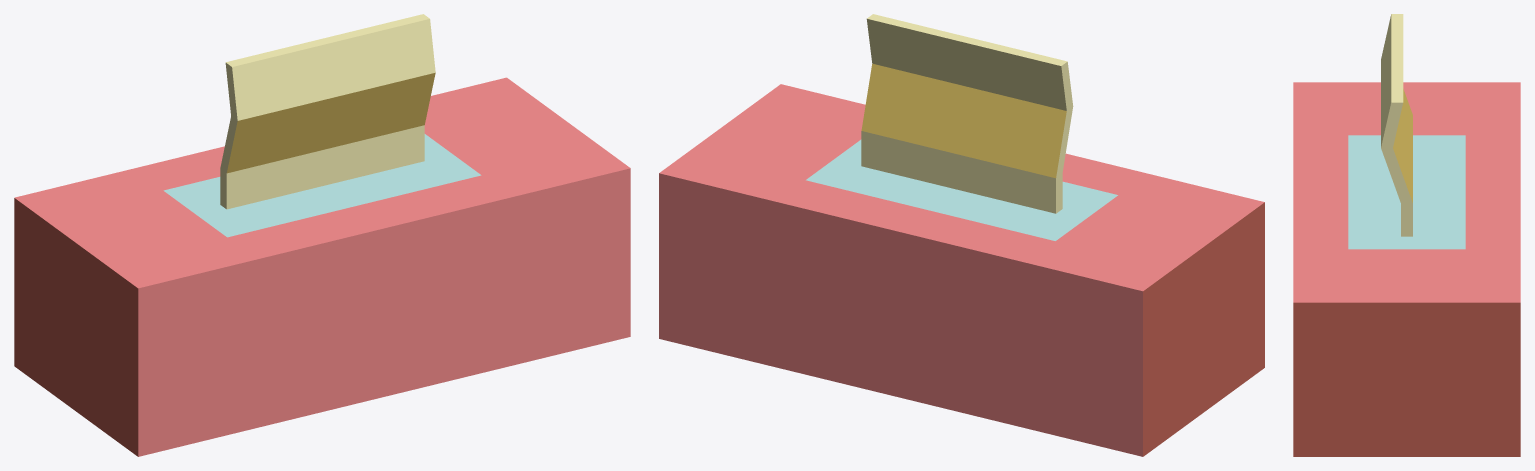
File: Tissue Box.fbx
3 renders of one model, left to right at view 1: azimuth 30°, elevation 25°; view 2: azimuth 150°, elevation 25°; view 3: azimuth 270°, elevation 25°, orthographic. The views are drawn at different scales.
Visible parts, largest first — view 1: Tissue Box; view 2: Tissue Box; view 3: Tissue Box.
Boxes of the visible parts, x1,y1,x2,y2 form: Tissue Box: (14,14,630,456); Tissue Box: (659,14,1264,456); Tissue Box: (1293,14,1520,456).
Bounding box in the file's own units: 44.09 × 26.93 × 19.22.
